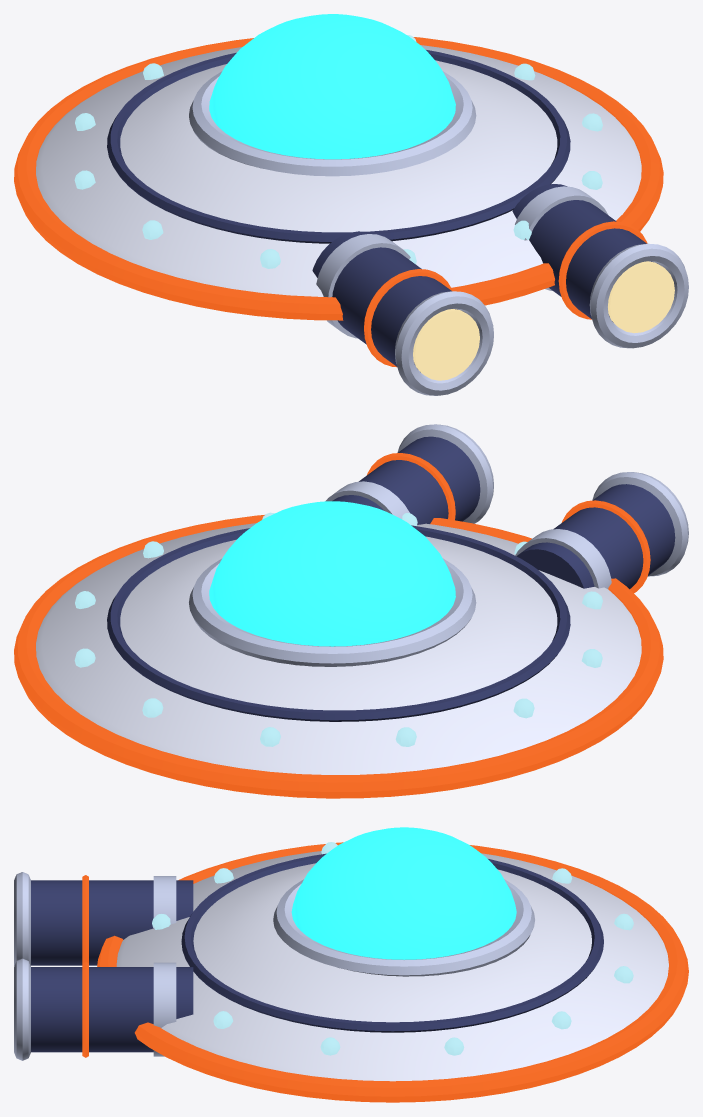
File: orbit.glb
3 renders of one model, top to bottom at view 1: azimuth 30°, elevation 25°; view 2: azimuth 150°, elevation 25°; view 3: azimuth 270°, elevation 25°, orthographic. The views are drawn at different scales.
Visible parts, largest first — view 1: saucer, Sphere, Torus, Torus.001, Torus.002, Cylinder, Cylinder.003, Torus.003, Torus.005, Cylinder.002, Cylinder.005, Cylinder.001 (+3 smaller); view 2: saucer, Sphere, Torus, Torus.001, Cylinder, Torus.002, Cylinder.003, Torus.003, Torus.005, Cylinder.001, Cylinder.004, Torus.004 (+1 smaller); view 3: saucer, Sphere, Torus, Cylinder.003, Cylinder, Torus.001, Torus.002, Torus.005, Cylinder.004, Torus.003, Cylinder.001, Torus.006 (+1 smaller).
Part boxes in pixels (x1,y1,x2,y2): saucer: [36, 45, 641, 296]; Sphere: [209, 14, 455, 159]; Torus: [14, 37, 663, 320]; Torus.001: [107, 50, 570, 243]; Torus.002: [189, 71, 476, 176]; Cylinder: [312, 231, 464, 372]; Cylinder.003: [512, 184, 657, 322]; Torus.003: [395, 291, 493, 395]; Torus.005: [589, 243, 688, 348]; Cylinder.002: [413, 309, 479, 380]; Cylinder.005: [608, 261, 674, 333]; Cylinder.001: [316, 234, 410, 338]; saucer: [36, 523, 641, 774]; Sphere: [209, 501, 455, 646]; Torus: [14, 515, 663, 798]; Torus.001: [107, 525, 570, 721]; Cylinder: [516, 484, 675, 589]; Torus.002: [189, 558, 476, 666]; Cylinder.003: [332, 436, 480, 524]; Torus.003: [592, 472, 688, 576]; Torus.005: [397, 424, 493, 523]; Cylinder.001: [515, 529, 611, 588]; Cylinder.004: [325, 481, 409, 519]; Torus.004: [561, 500, 650, 592]; saucer: [116, 851, 668, 1081]; Sphere: [291, 827, 516, 959]; Torus: [97, 842, 688, 1102]; Cylinder.003: [31, 967, 193, 1052]; Cylinder: [31, 880, 193, 965]; Torus.001: [181, 853, 603, 1032]; Torus.002: [273, 879, 534, 976]; Torus.005: [14, 958, 30, 1060]; Cylinder.004: [153, 962, 176, 1056]; Torus.003: [14, 872, 30, 965]; Cylinder.001: [153, 876, 176, 929]; Torus.006: [82, 961, 88, 1057].
Bounding box in the file's own units: 2.08 × 0.71 × 2.37.
